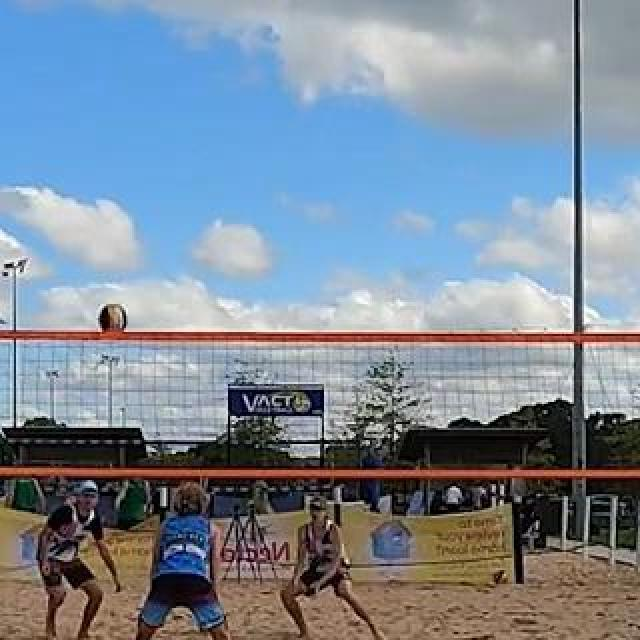volleyball: (98, 303, 128, 333), (493, 569, 509, 585)
